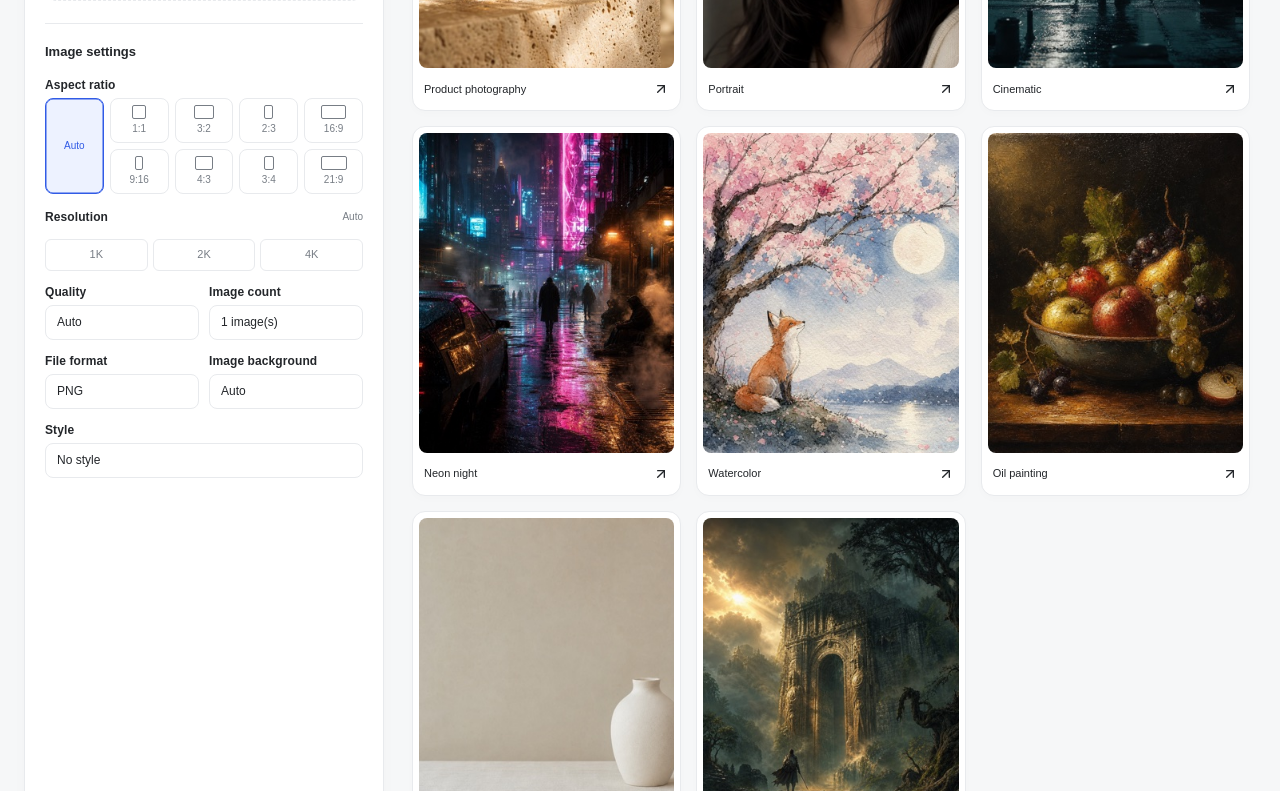
it: shows output settings together and prevents a transparent JPEG request
This screenshot has width=1280, height=791.
(page scrolled)
Select "Transparent" in the dropdown labelled "Image background" at (286, 392), box x1=209 y1=374 x2=363 y2=409
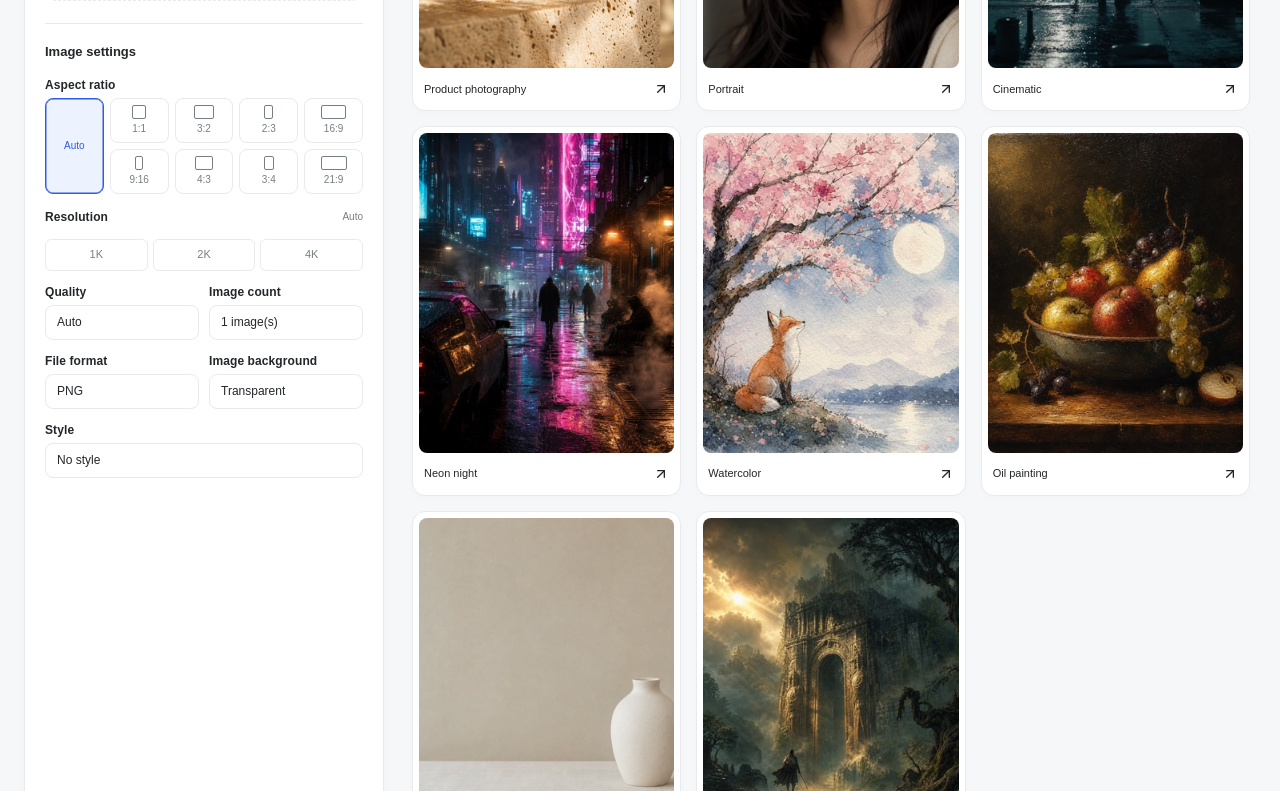
Select "JPEG" in the dropdown labelled "File format" at (122, 392), box x1=45 y1=374 x2=199 y2=409
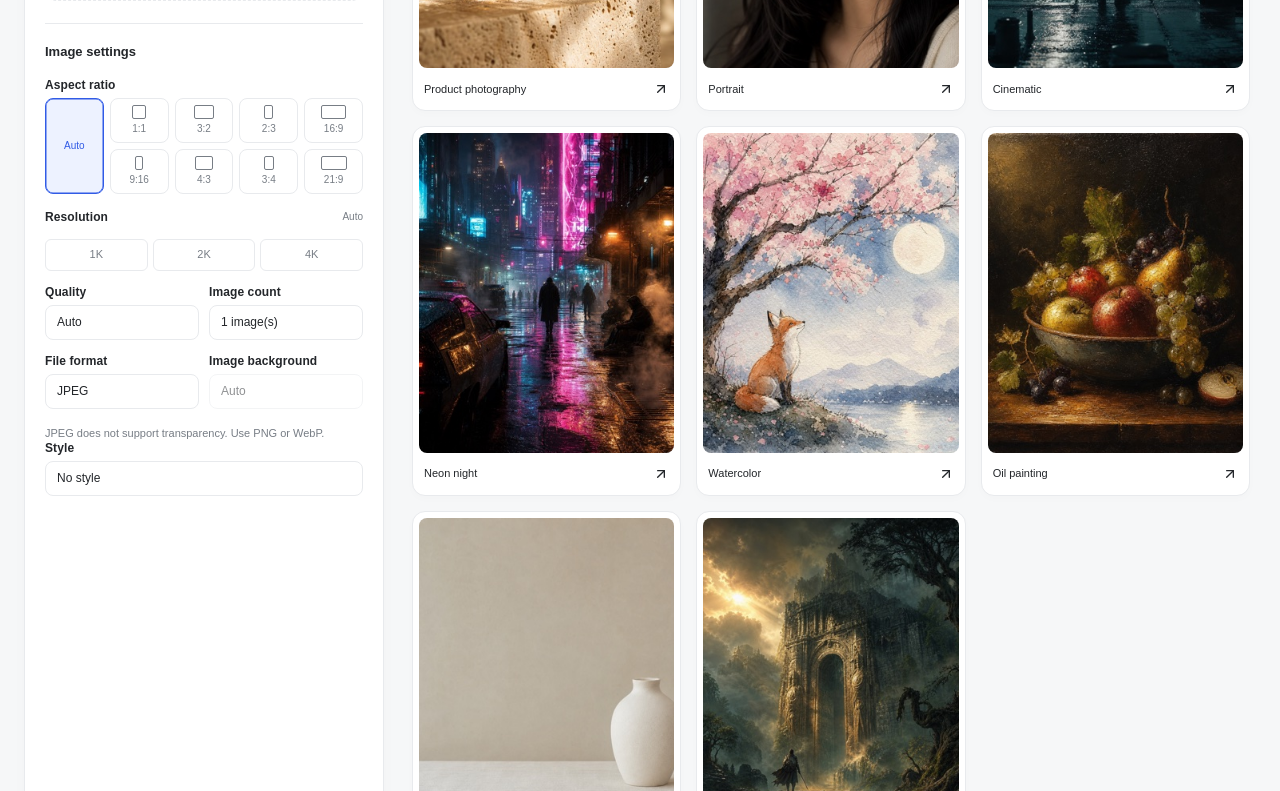
Expected: the dropdown labelled "Image background" is disabled, x1=209 y1=374 x2=363 y2=409
